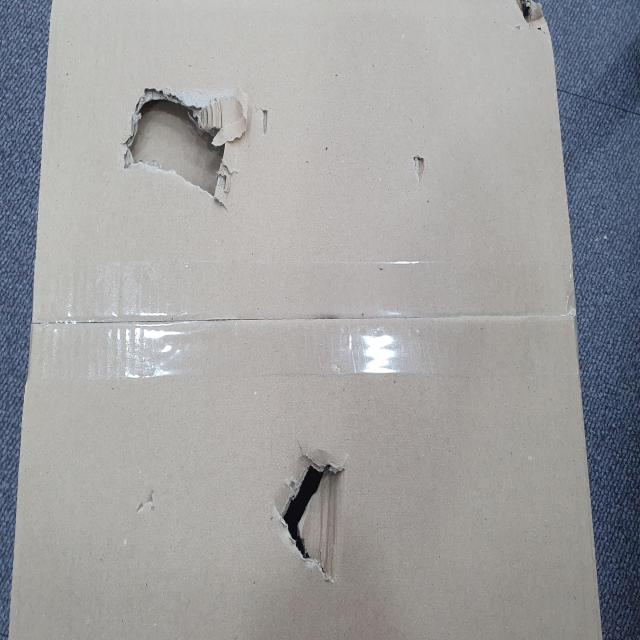damaged: (119, 81, 249, 216), (274, 442, 352, 588)
